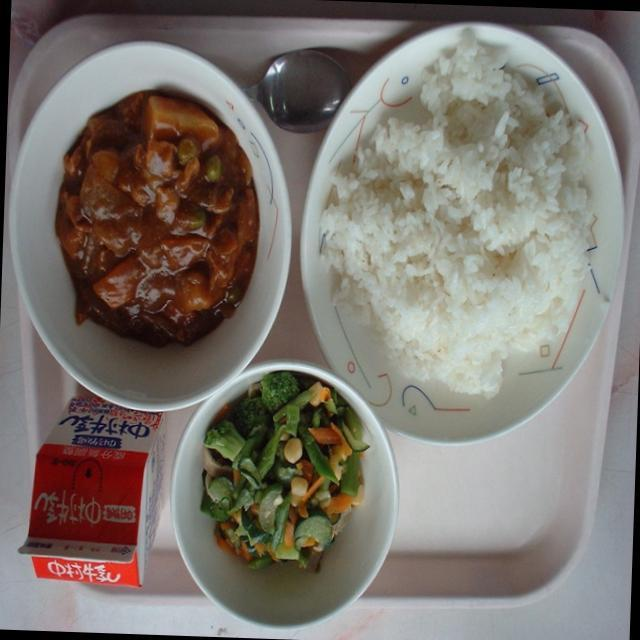Rice: (334, 57, 587, 390)
